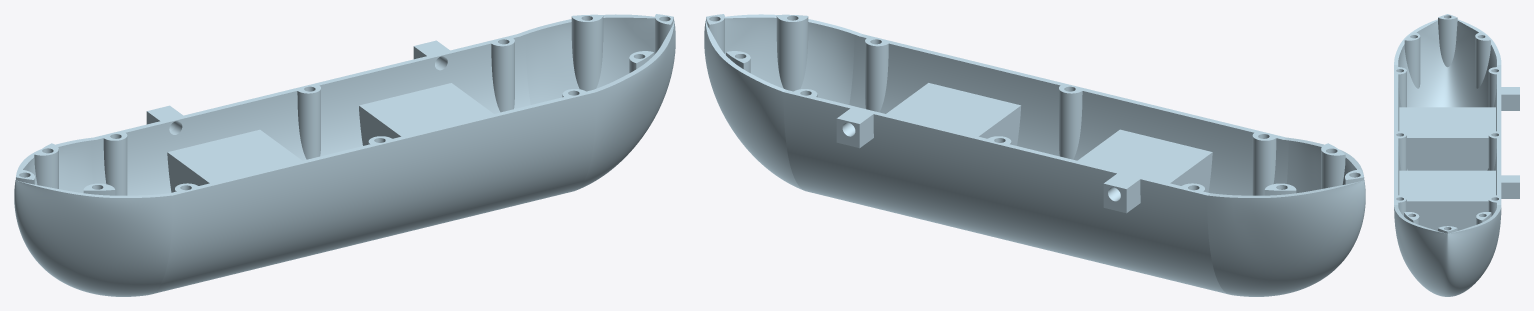
The model's file is boat.gltf.
3 renders of one model, left to right at view 1: azimuth 30°, elevation 25°; view 2: azimuth 150°, elevation 25°; view 3: azimuth 270°, elevation 25°, orthographic. The views are drawn at different scales.
Visible parts, largest first — view 1: Part 1; view 2: Part 1; view 3: Part 1.
Part boxes in pixels (bbox=[...]): Part 1: bbox=[14, 14, 675, 296]; Part 1: bbox=[704, 14, 1365, 296]; Part 1: bbox=[1394, 14, 1519, 296].
Bounding box in the file's own units: 0.611 × 0.1246 × 0.1489.
